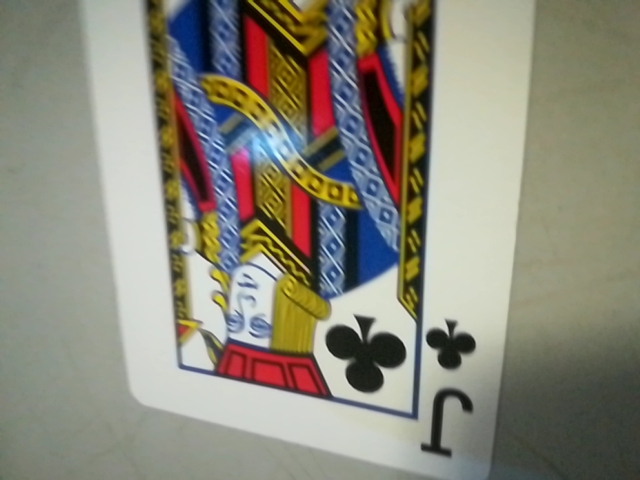mh j: (410, 314, 492, 472)
